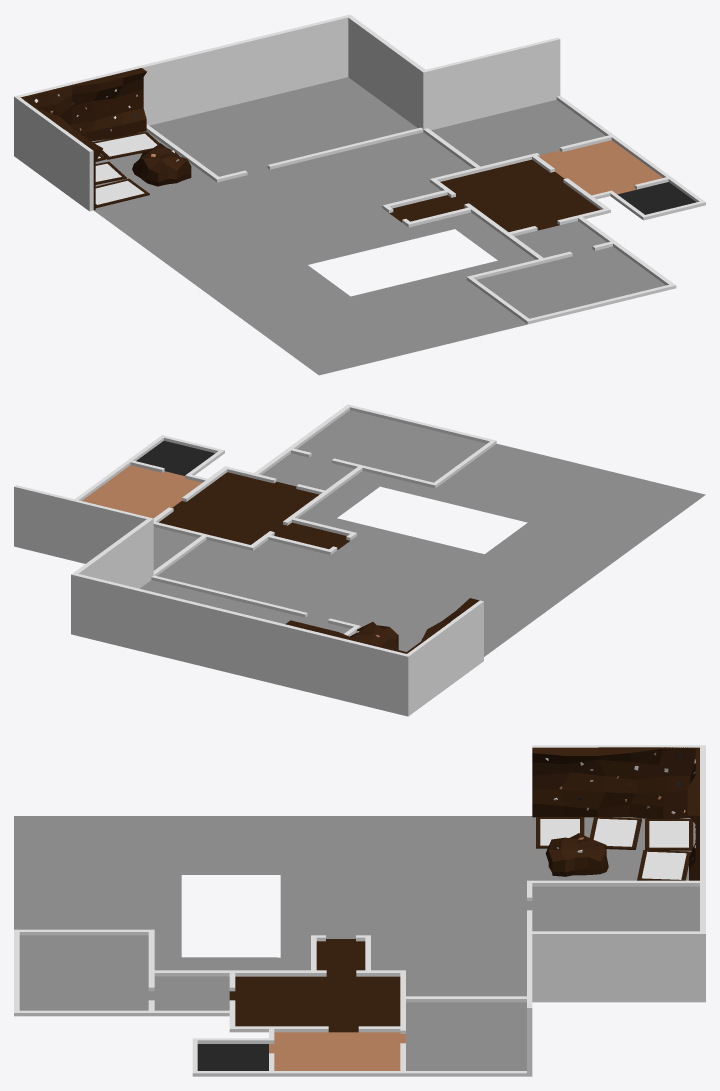
File: Salle_08_b.FBX
3 views of the same model, one above another, from view 1: azimuth 30°, elevation 25°; view 2: azimuth 150°, elevation 25°; view 3: azimuth 270°, elevation 25° (orthographic). The views are drawn at different scales.
Parts seen in each view (by area): view 1: Piece_08, Mur_Escalade, Escalade_Tapis, Escalade_rocher; view 2: Piece_08, Mur_Escalade, Escalade_rocher; view 3: Piece_08, Mur_Escalade, Escalade_Tapis, Escalade_rocher.
Boxes of the visible parts, x1,y1,x2,y2 form: Piece_08: (14, 14, 705, 375); Mur_Escalade: (20, 68, 146, 210); Escalade_Tapis: (92, 131, 159, 207); Escalade_rocher: (132, 143, 191, 186); Piece_08: (14, 404, 705, 716); Mur_Escalade: (285, 598, 479, 653); Escalade_rocher: (350, 622, 398, 649); Piece_08: (14, 745, 705, 1076); Mur_Escalade: (532, 747, 699, 880); Escalade_Tapis: (536, 816, 693, 880); Escalade_rocher: (545, 833, 608, 876).
Size of the model in its own units: 2467 by 304 by 2744.
